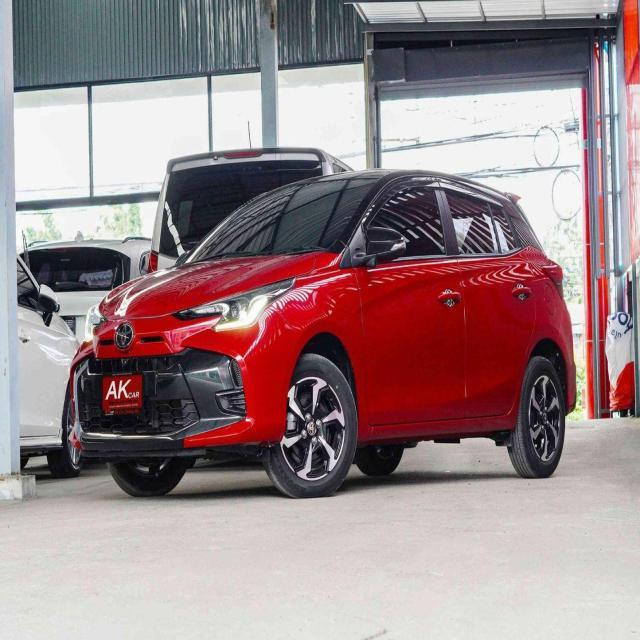Hatchback: (62, 174, 578, 500)
